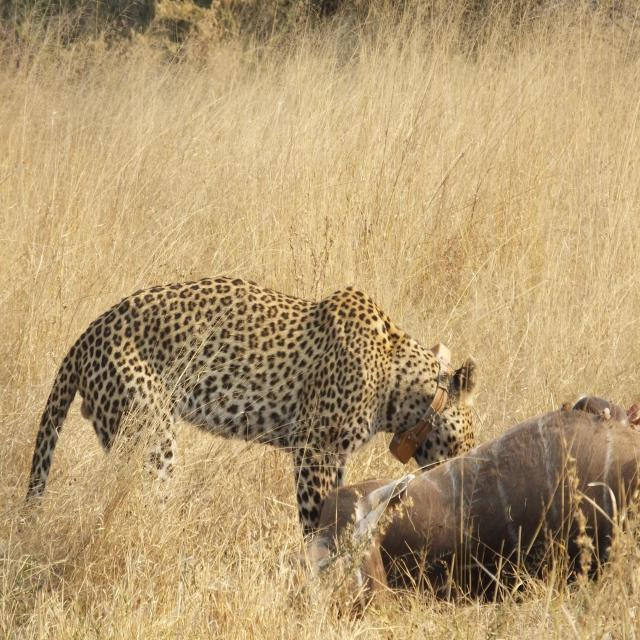Leopard: (34, 265, 473, 539)
